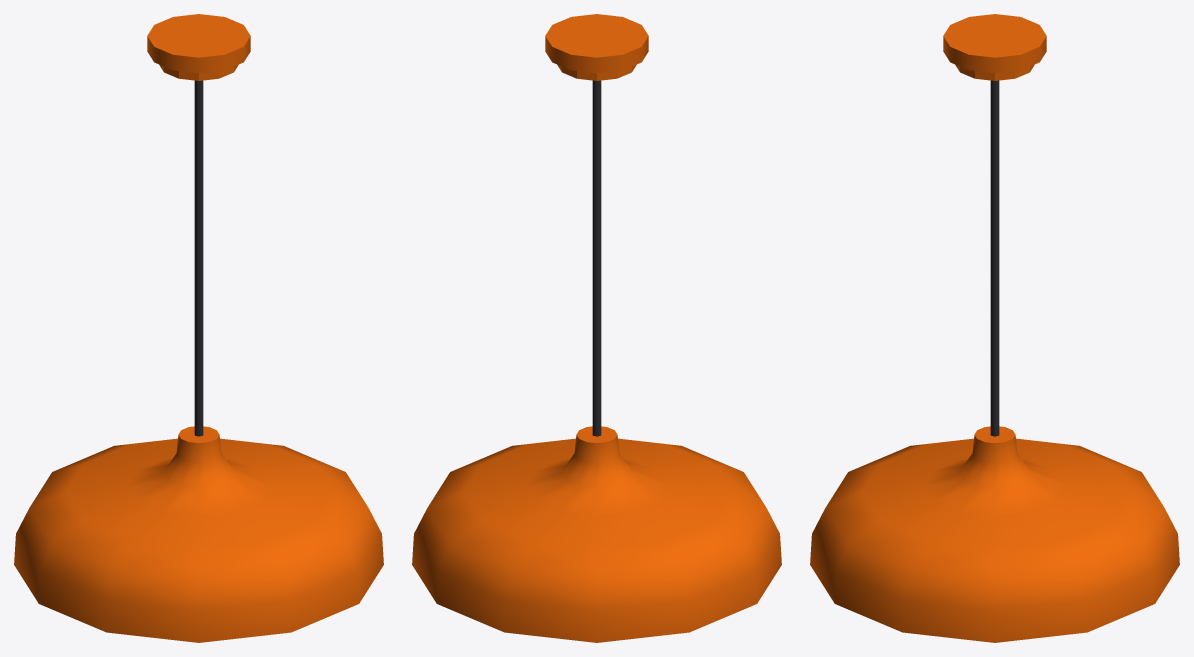
Rendered from Prop_CeilingLamp.FBX.
3 views of the same model, side by side, from view 1: azimuth 30°, elevation 25°; view 2: azimuth 150°, elevation 25°; view 3: azimuth 270°, elevation 25° (orthographic).
Visible parts, largest first — view 1: Cylinder001; view 2: Cylinder001; view 3: Cylinder001.
Part boxes in pixels (box(x1,y1,x2,y2)): Cylinder001: box(14, 14, 383, 642); Cylinder001: box(412, 14, 781, 642); Cylinder001: box(810, 14, 1179, 642).
Bounding box in the file's own units: 45 × 71 × 45.
Materials: 1 (1 with a texture image).
